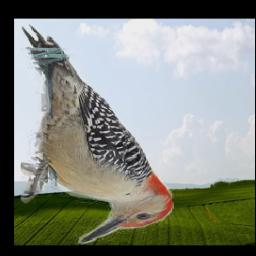Woodpecker: (20, 22, 173, 245)
